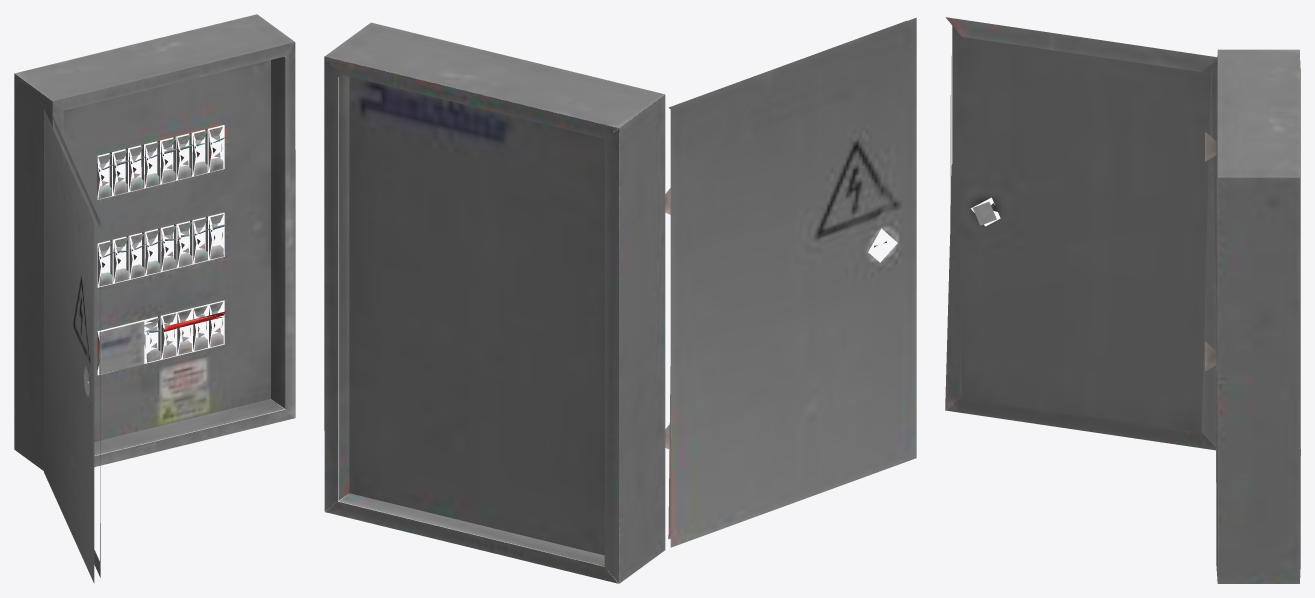
File: power_box.glb
3 views of the same model, side by side, from view 1: azimuth 30°, elevation 25°; view 2: azimuth 150°, elevation 25°; view 3: azimuth 270°, elevation 25° (orthographic). The views are drawn at different scales.
Visible parts, largest first — view 1: power_box; view 2: power_box; view 3: power_box.
Part boxes in pixels (box(x1,y1,x2,y2)): power_box: box(14, 14, 295, 583); power_box: box(324, 17, 916, 583); power_box: box(945, 17, 1300, 583).
Size of the model in its own units: 0.4576 by 0.5036 by 0.3994.
1 material, 1 textured.
